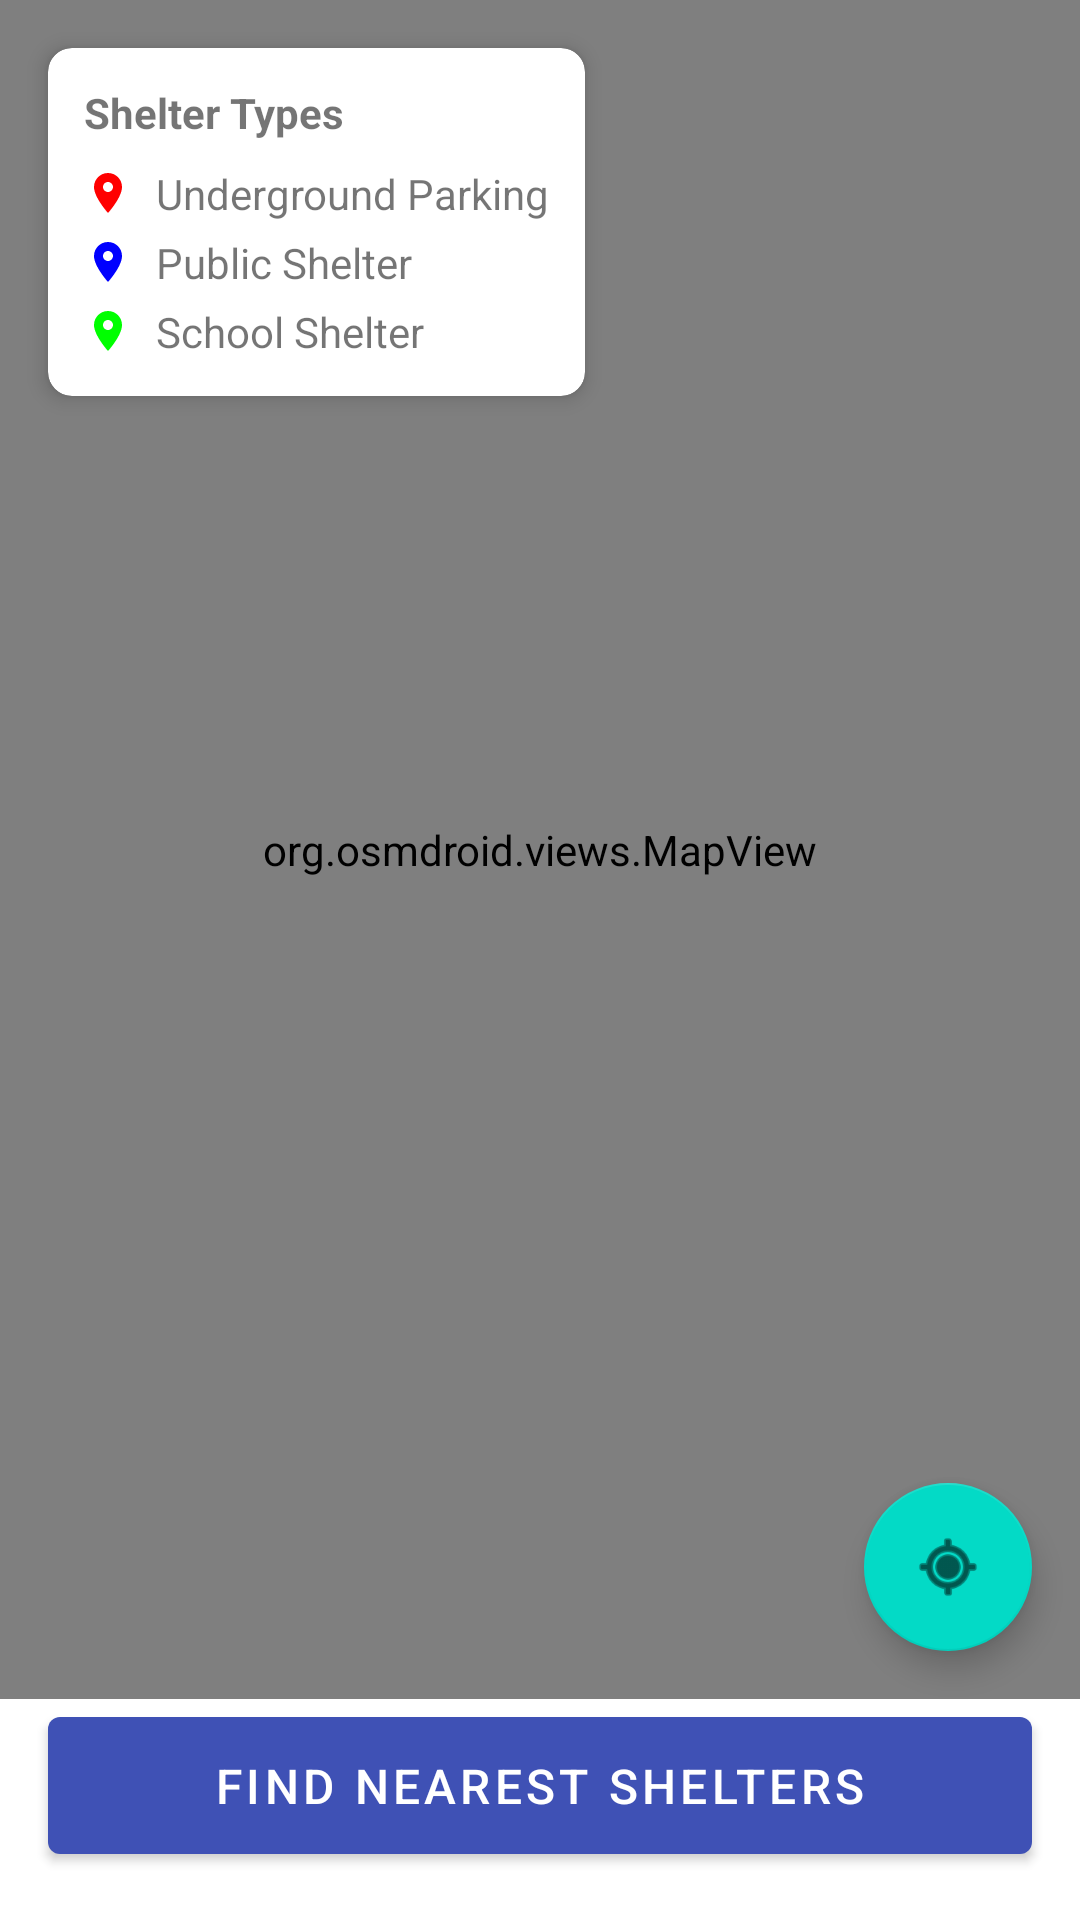

Named icons in this screenshot (1080×1920) and their centers, (x,y):
My Location: (948,1567)
shelter marker cat: (108,193), (108,262), (108,331)
